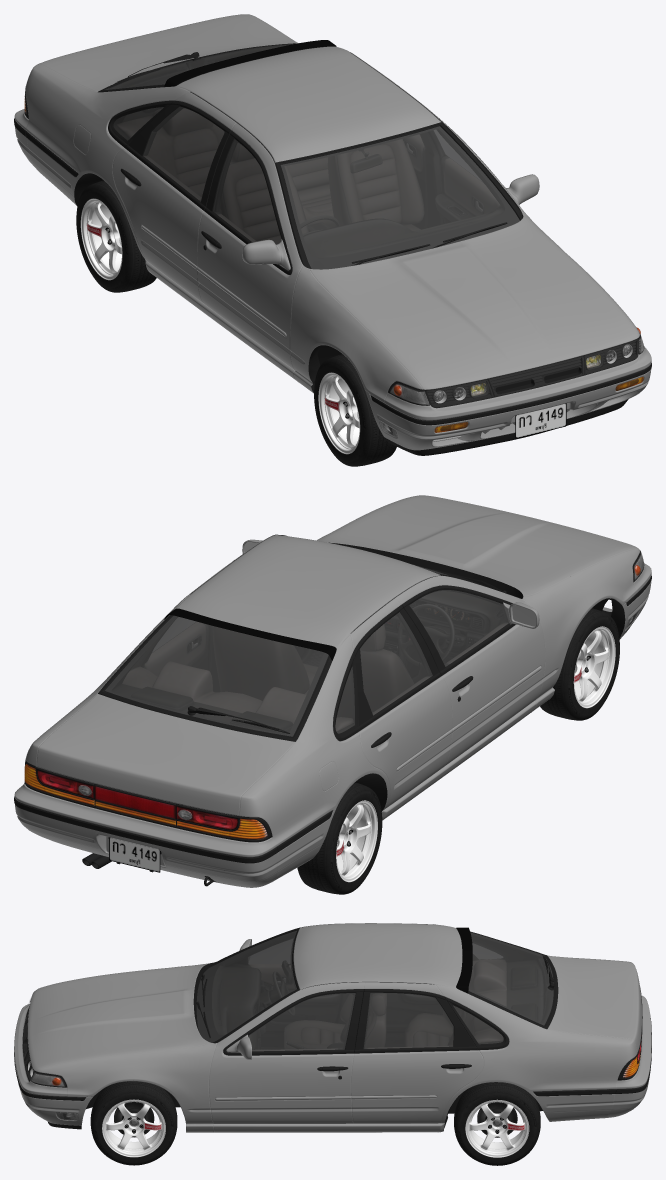
Rendered from project_539b2257.glb.
3 views of the same model, one above another, from view 1: azimuth 30°, elevation 25°; view 2: azimuth 150°, elevation 25°; view 3: azimuth 270°, elevation 25° (orthographic). The views are drawn at different scales.
Parts seen in each view (by area): view 1: body_0, window_rear_0, body_006, interior_h_0, body_001, seat_LOD0_0, misc_002, body_005, body_002, misc_009, Object004_black_0, TIRE_RF_SUB007 (+13 smaller); view 2: body_0, window_rear_0, body_002, body_001, body_006, interior_h_0, body_004, seat_LOD0_0, misc_002, misc_009, TIRE_RF_SUB006, TIRE_RF_SUB007 (+17 smaller); view 3: body_0, window_rear_0, body_001, interior_h_0, body_006, body_002, misc_002, misc_009, TIRE_RF_SUB004, TIRE_RF_SUB005, seat_LOD0_0, body_005 (+16 smaller).
Part boxes in pixels (left/top/right/bottom): body_0: left=25, top=14, right=639, bottom=402; window_rear_0: left=105, top=44, right=519, bottom=269; body_006: left=311, top=217, right=638, bottom=389; interior_h_0: left=112, top=46, right=504, bottom=257; body_001: left=113, top=58, right=527, bottom=369; seat_LOD0_0: left=220, top=139, right=424, bottom=244; misc_002: left=26, top=43, right=523, bottom=392; body_005: left=366, top=346, right=651, bottom=450; body_002: left=40, top=14, right=292, bottom=91; misc_009: left=120, top=53, right=521, bottom=274; Object004_black_0: left=388, top=334, right=640, bottom=408; TIRE_RF_SUB007: left=314, top=354, right=396, bottom=466; body_0: left=25, top=535, right=639, bottom=879; window_rear_0: left=105, top=565, right=508, bottom=736; body_002: left=37, top=694, right=294, bottom=815; body_001: left=186, top=550, right=544, bottom=807; body_006: left=317, top=495, right=637, bottom=595; interior_h_0: left=112, top=573, right=508, bottom=733; body_004: left=14, top=783, right=277, bottom=887; seat_LOD0_0: left=213, top=624, right=413, bottom=717; misc_002: left=98, top=534, right=621, bottom=852; misc_009: left=190, top=534, right=515, bottom=747; TIRE_RF_SUB006: left=297, top=782, right=382, bottom=894; TIRE_RF_SUB007: left=540, top=608, right=619, bottom=720; body_0: left=37, top=923, right=636, bottom=1132; window_rear_0: left=196, top=930, right=553, bottom=1051; body_001: left=209, top=982, right=483, bottom=1123; interior_h_0: left=212, top=933, right=551, bottom=1050; body_006: left=27, top=963, right=209, bottom=1070; body_002: left=548, top=956, right=641, bottom=1052; misc_002: left=86, top=928, right=616, bottom=1132; misc_009: left=219, top=924, right=478, bottom=1079; TIRE_RF_SUB004: left=90, top=1081, right=177, bottom=1165; TIRE_RF_SUB005: left=454, top=1082, right=540, bottom=1165; seat_LOD0_0: left=284, top=993, right=386, bottom=1048; body_005: left=14, top=1004, right=91, bottom=1125.
Size of the model in its own units: 0.0487 by 0.0353 by 0.1194.
Materials: 17 (7 with a texture image).
